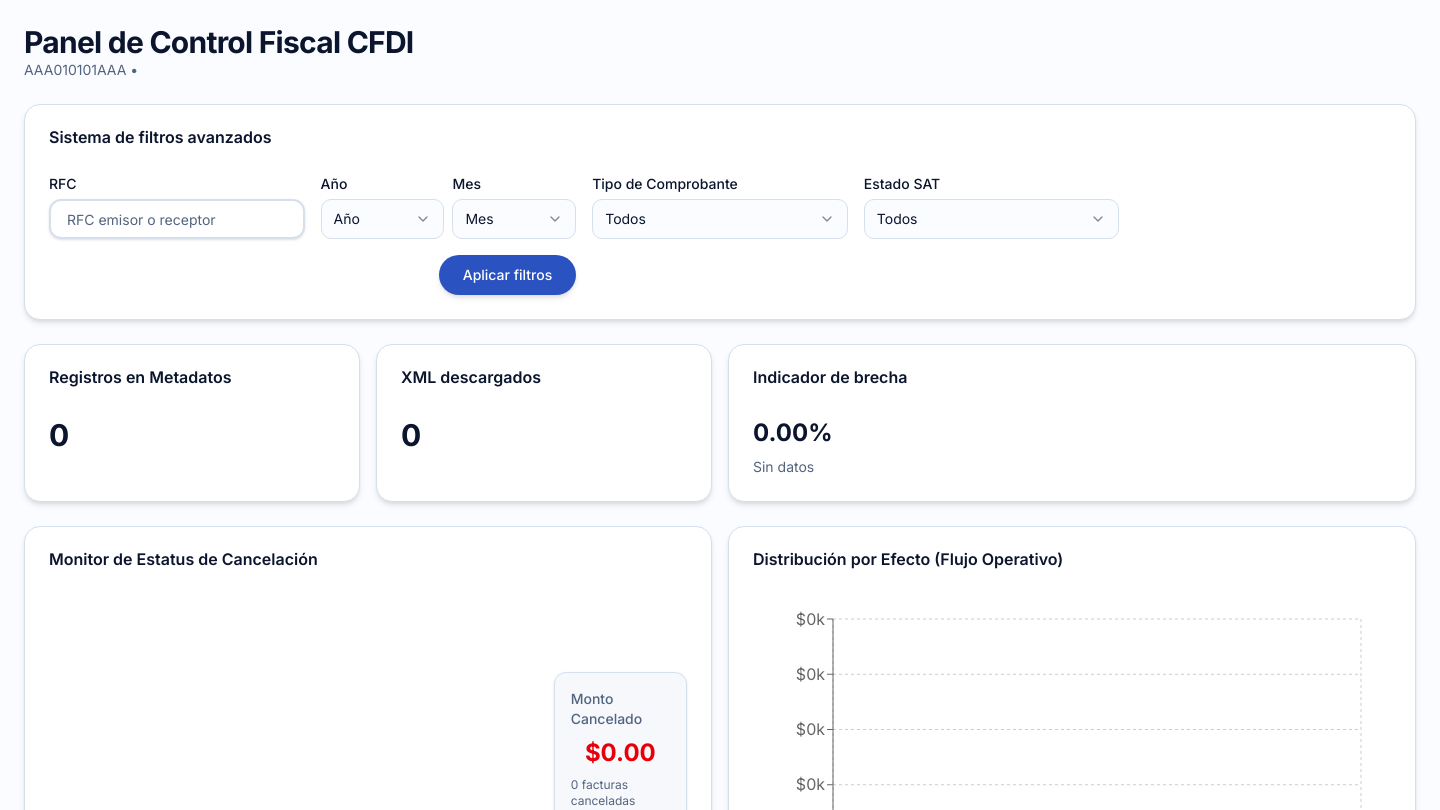
Scenario: Control Fiscal (MassDownloadsFiscalControlPage) › 3. Autocompletado de RFCs
Type "EMI" into the field with placeholder "RFC emisor o receptor" at [177, 219], box [49,199,305,239]
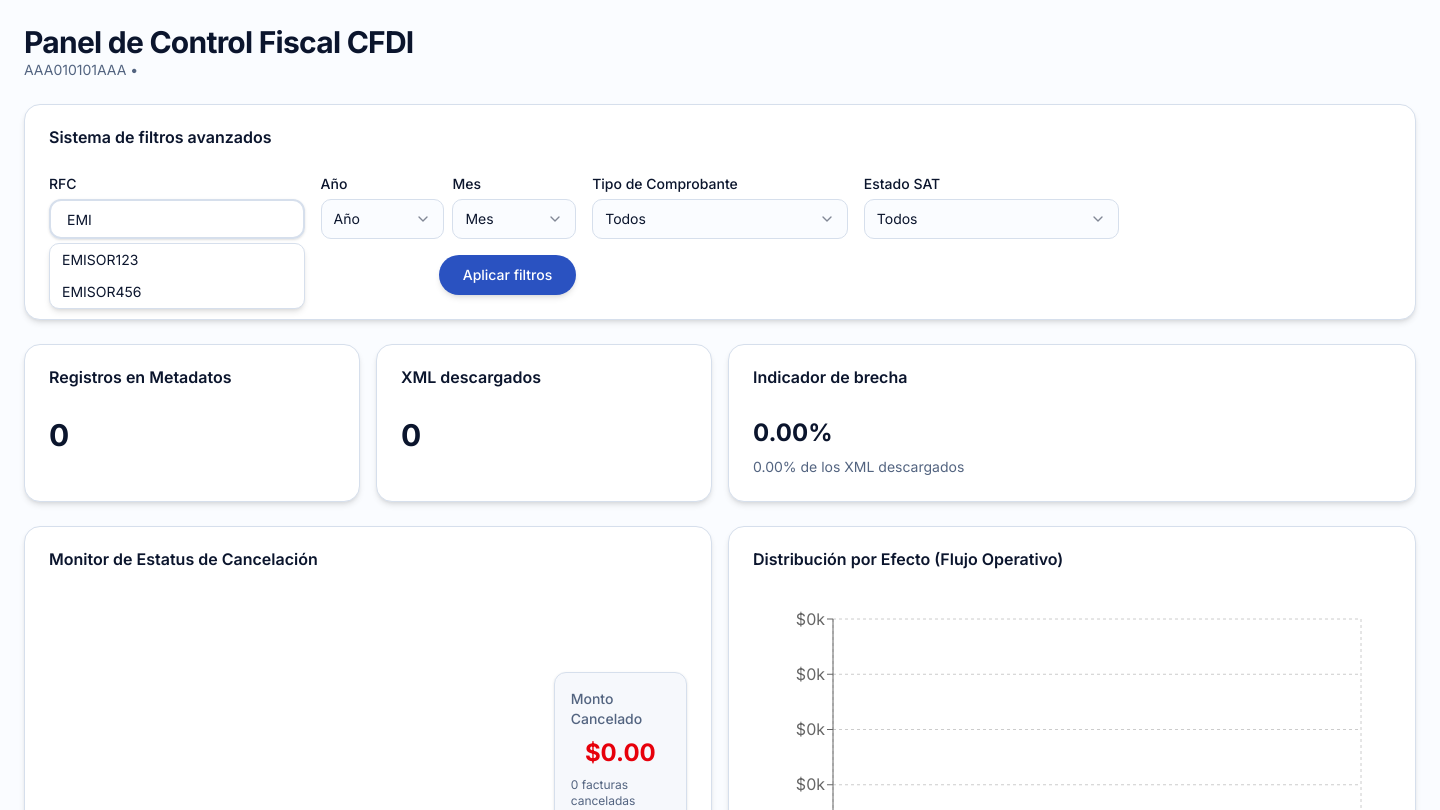
Expected: the button "EMISOR123" is shown
Expected: the button "EMISOR456" is shown, [50,276,304,308]
Hacer clic en sugerencia
Click the button "EMISOR123" at [177, 260], box [50,244,304,276]
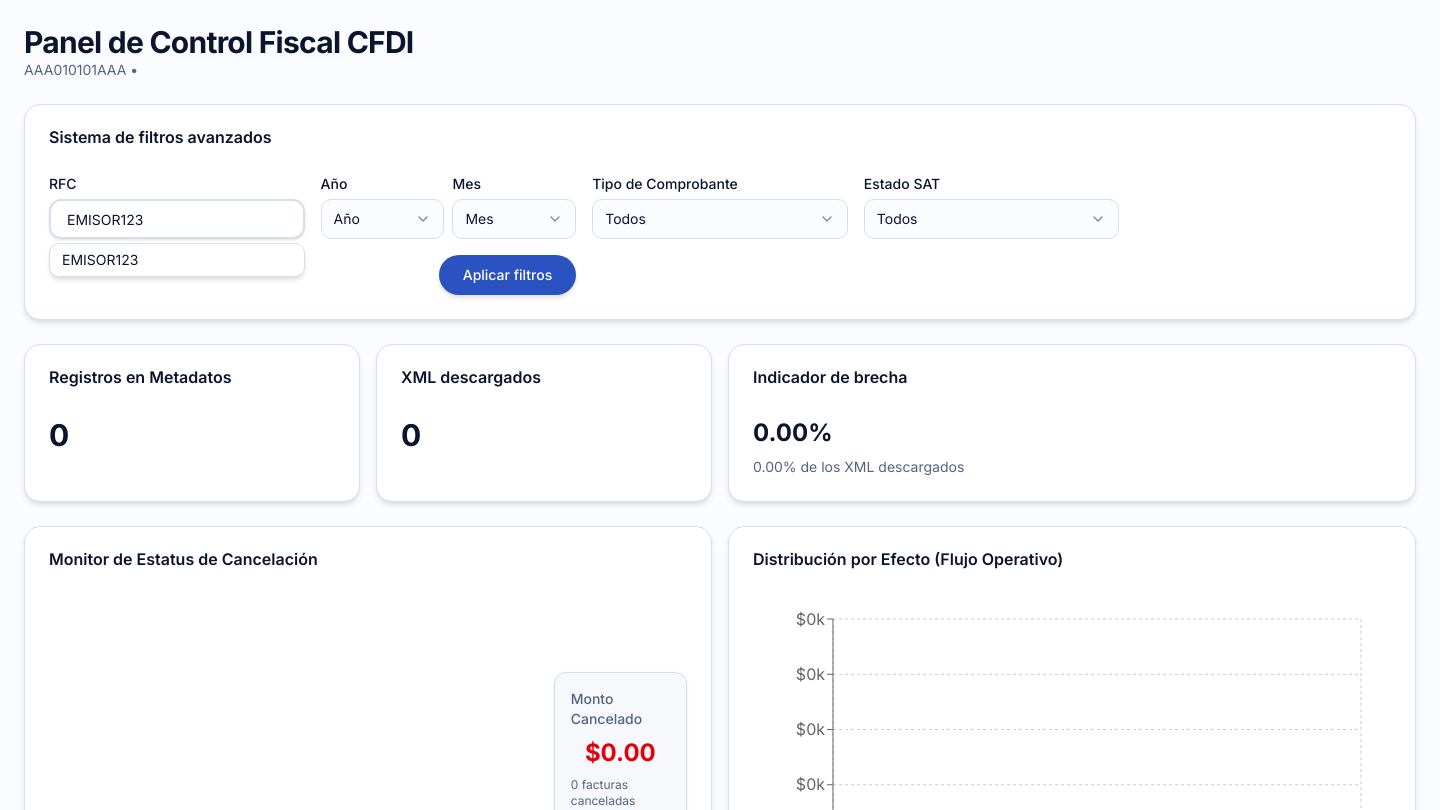
Expected: the field with placeholder "RFC emisor o receptor" holds "EMISOR123", [49,199,305,239]
